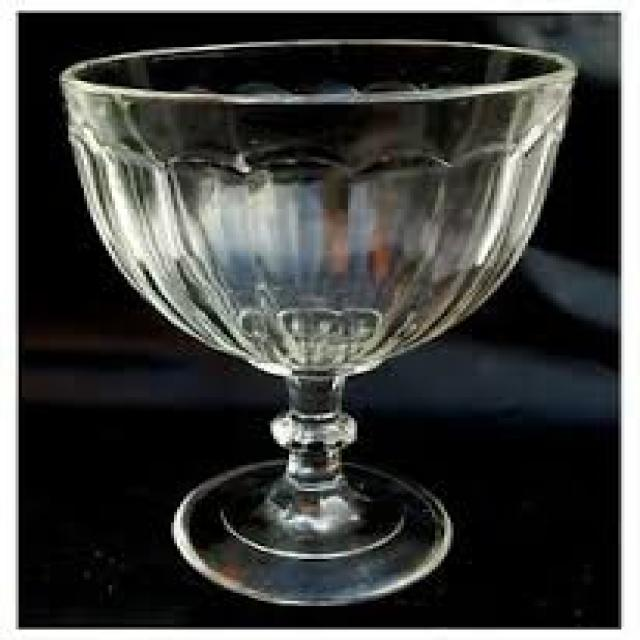glass: (62, 39, 575, 603)
